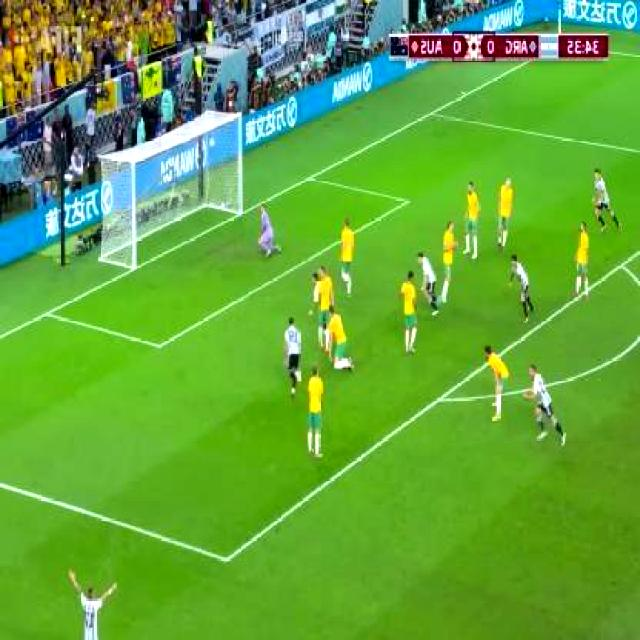bigarea_bottom_inner: (209, 534, 242, 584)
bigarea_top_outter: (422, 102, 440, 126)
bottom_arc_area_intersection: (429, 375, 454, 420)
smallarea_bottom_inner: (148, 326, 170, 365)
smallarea_bottom_outter: (37, 294, 60, 334)
smallarea_top_inner: (397, 185, 417, 217)
smallarea_top_outter: (300, 163, 318, 192)
top_arc_area_intersection: (612, 246, 631, 285)
